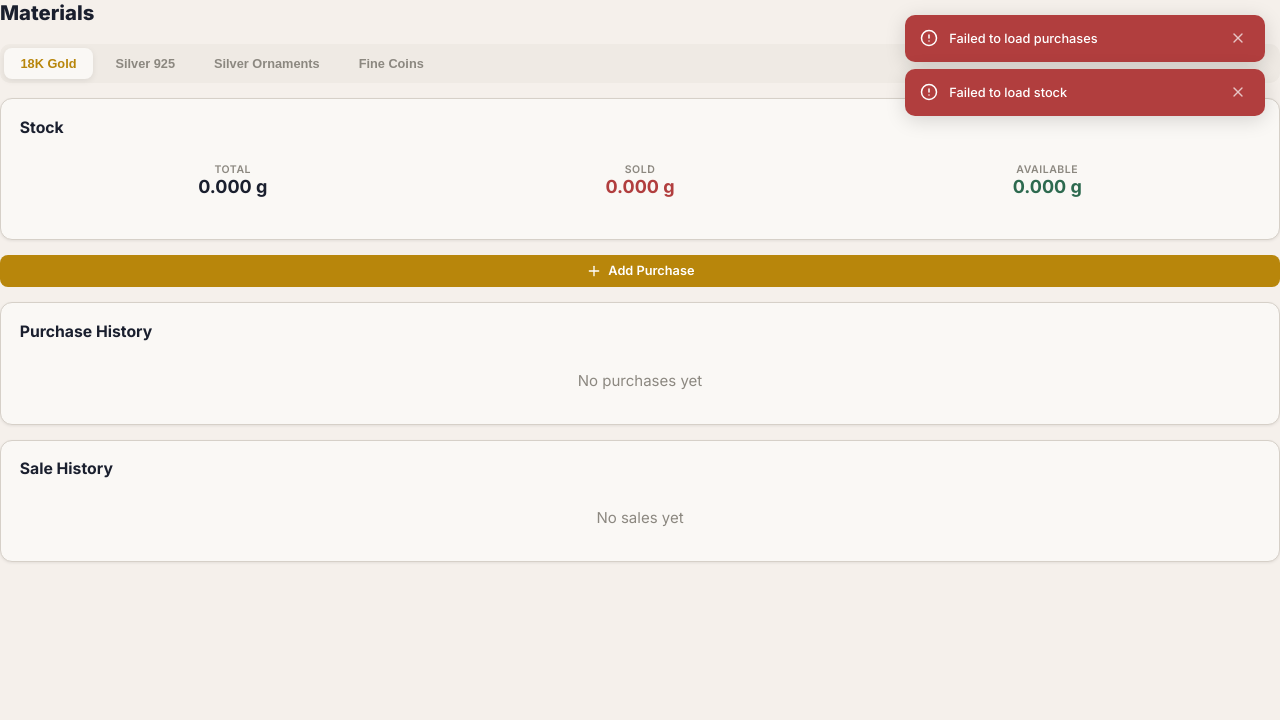
Scenario: MaterialPage CRUD › shows an error toast when the insert is denied
Click the button "Add Purchase": [640, 271] box [0, 254, 1279, 287]
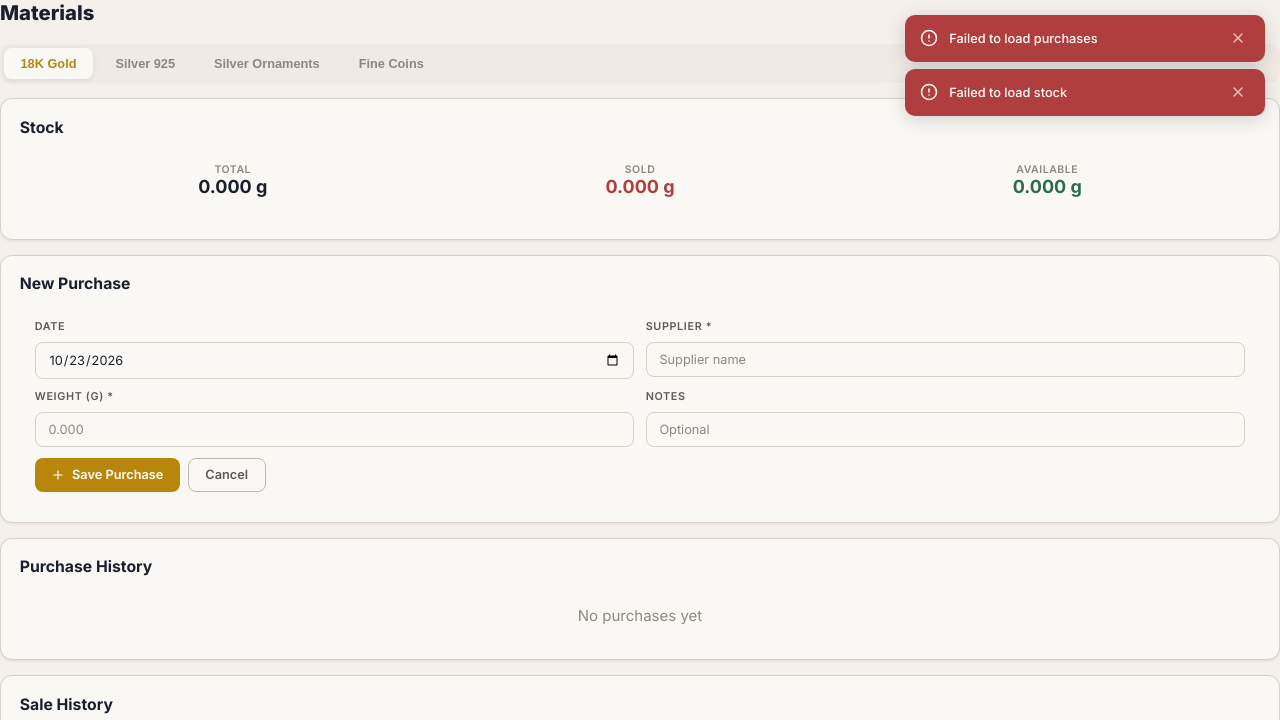
In the field with placeholder "Supplier name": [945, 359] box [646, 342, 1245, 376], type "X"
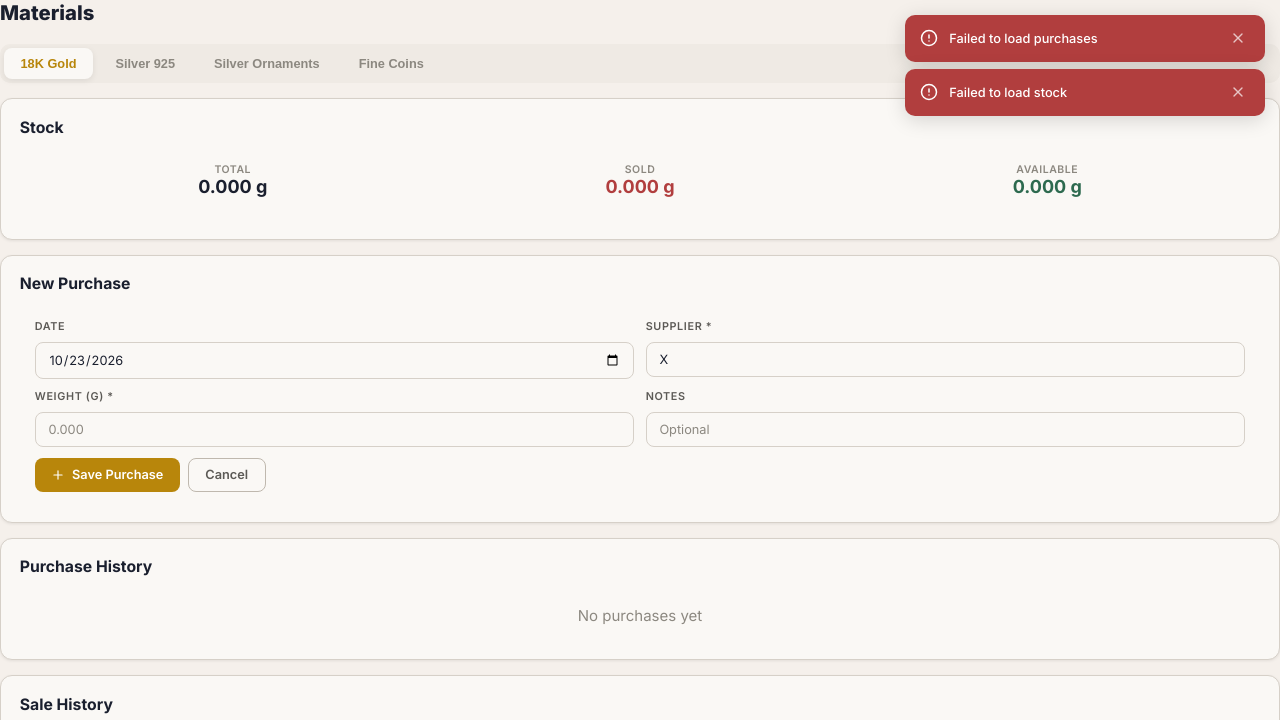
In the number field with placeholder "0.000": [335, 429] box [35, 412, 634, 447], type "5"
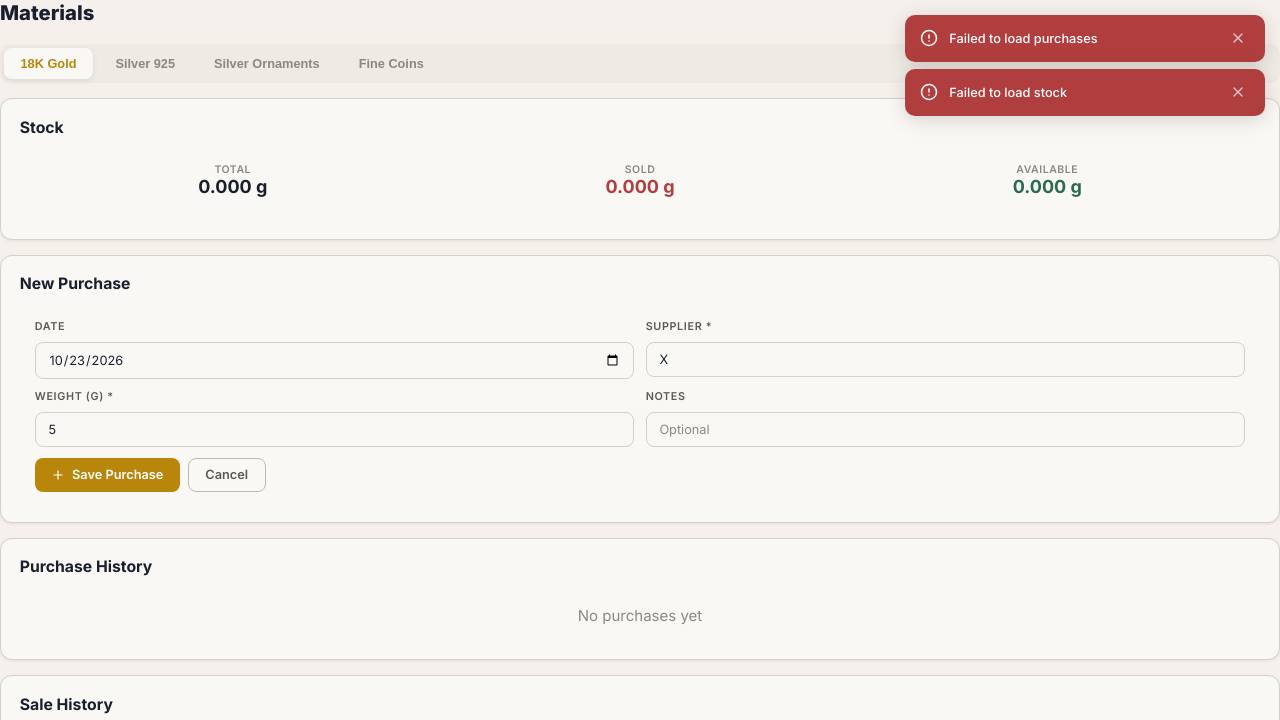
Click the button "Save Purchase": [107, 475] box [35, 458, 180, 492]
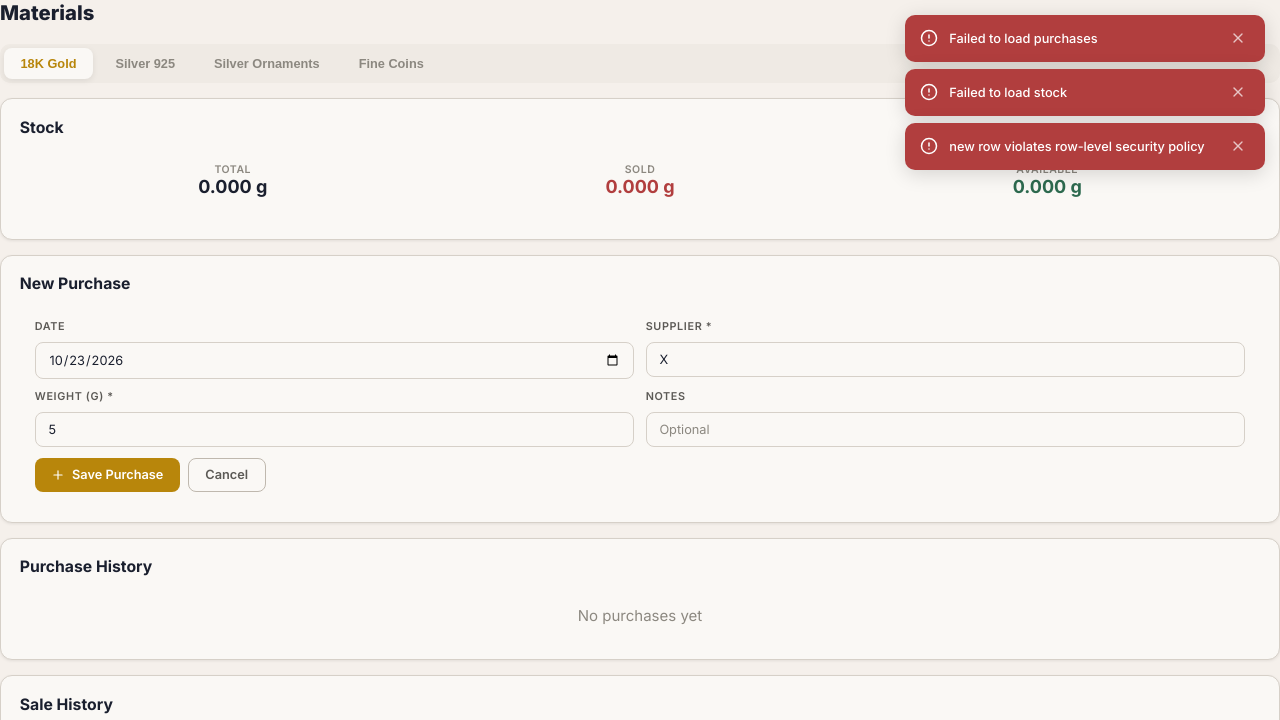
Expected: the text "new row violates row-level security policy" is shown, [949, 139, 1215, 154]
